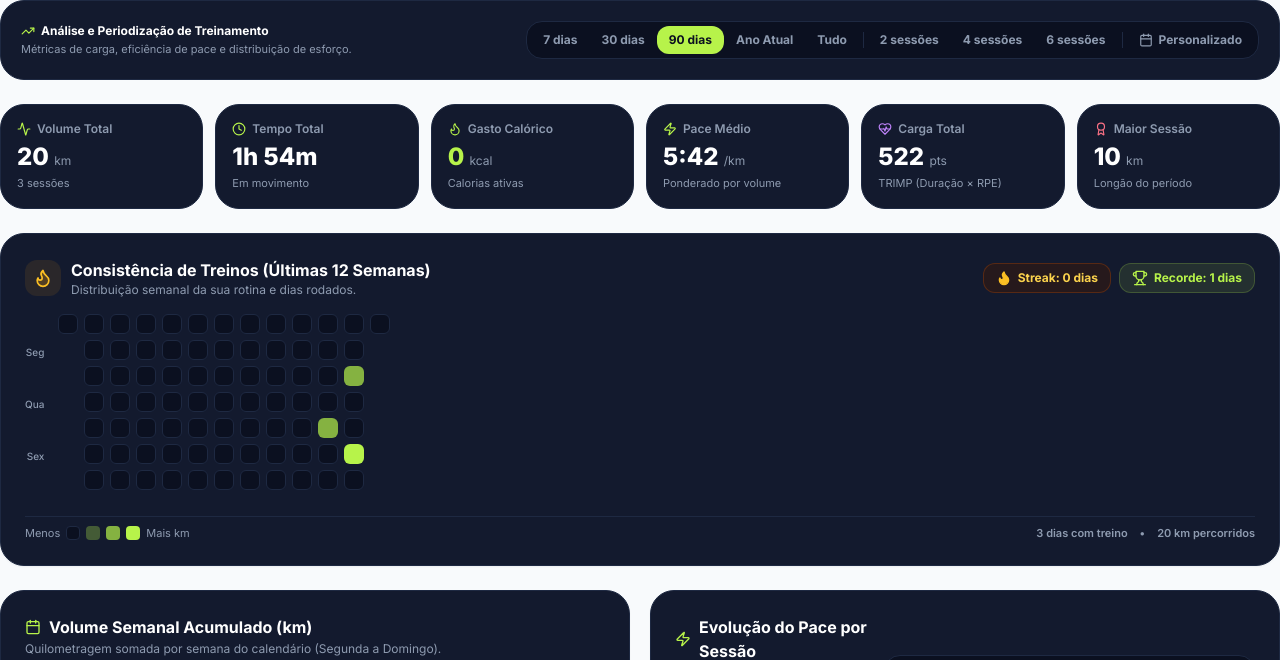
TrainingEvolutionDashboard (Fase 4 & 5 - Gráficos Analíticos) › permite filtrar pelas últimas 2 sessões mais recentes e reordena cronologicamente
What coordinates should you click on to do the following:
click the button "2 sessões"
I would click on:
 (909, 40)
Its box is [868,26,951,54].
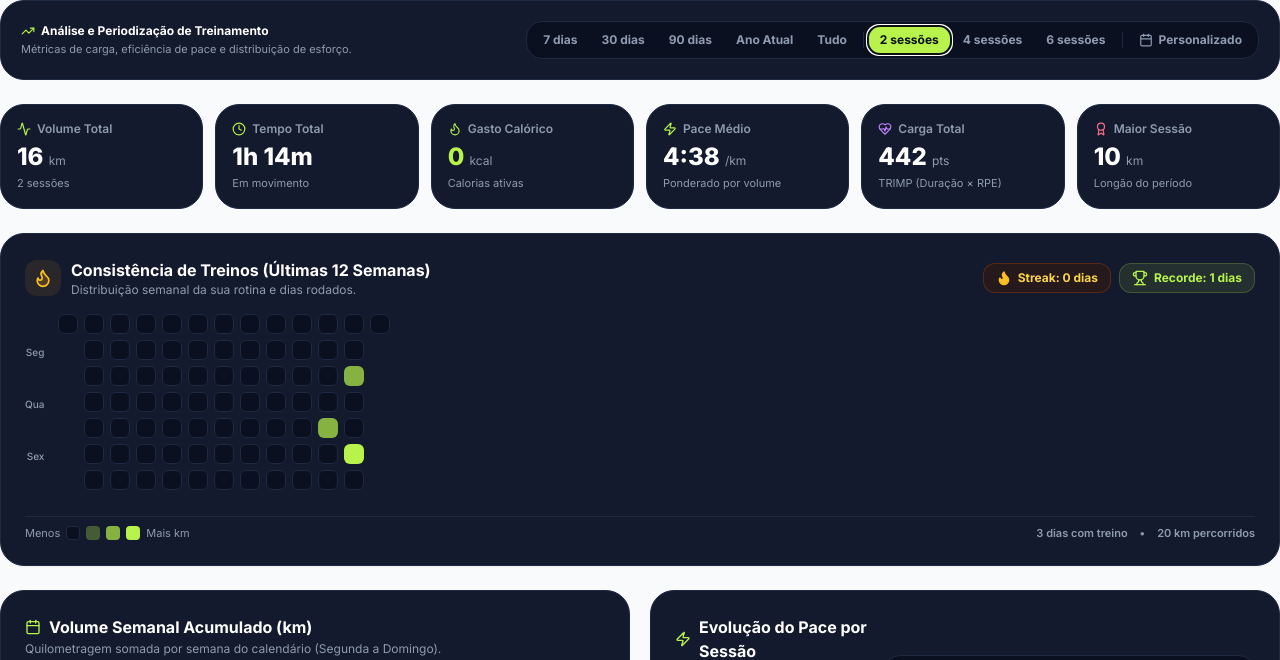
Expected: the element with test id "kpi-total-volume" shows "16 km", [0,104,203,208]
Expected: the element with test id "kpi-total-volume" shows "2 sessões", [0,104,203,208]
